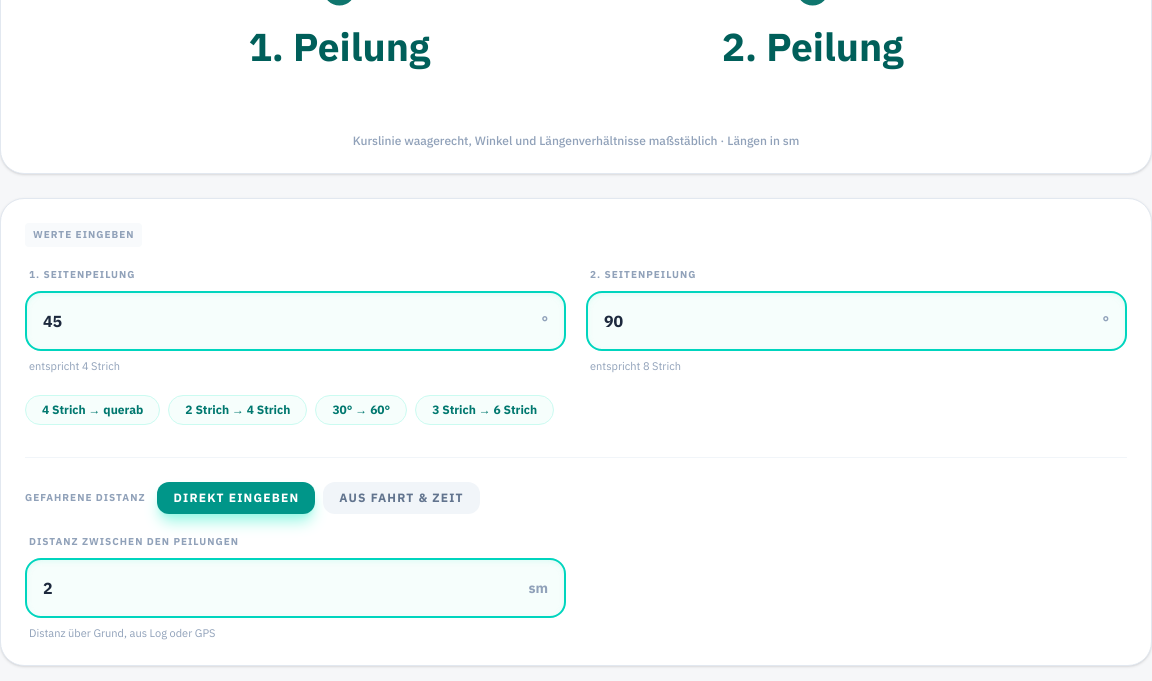
VersegelungRechner › kleine Peilungsdifferenz erzeugt eine Warnung neben dem Ergebnis
This screenshot has width=1152, height=681.
(page scrolled)
Step 1. Replace the text in the number field labelled "2. Seitenpeilung" with "50" → (856, 322), box [588,294,1125,350]
(page scrolled)
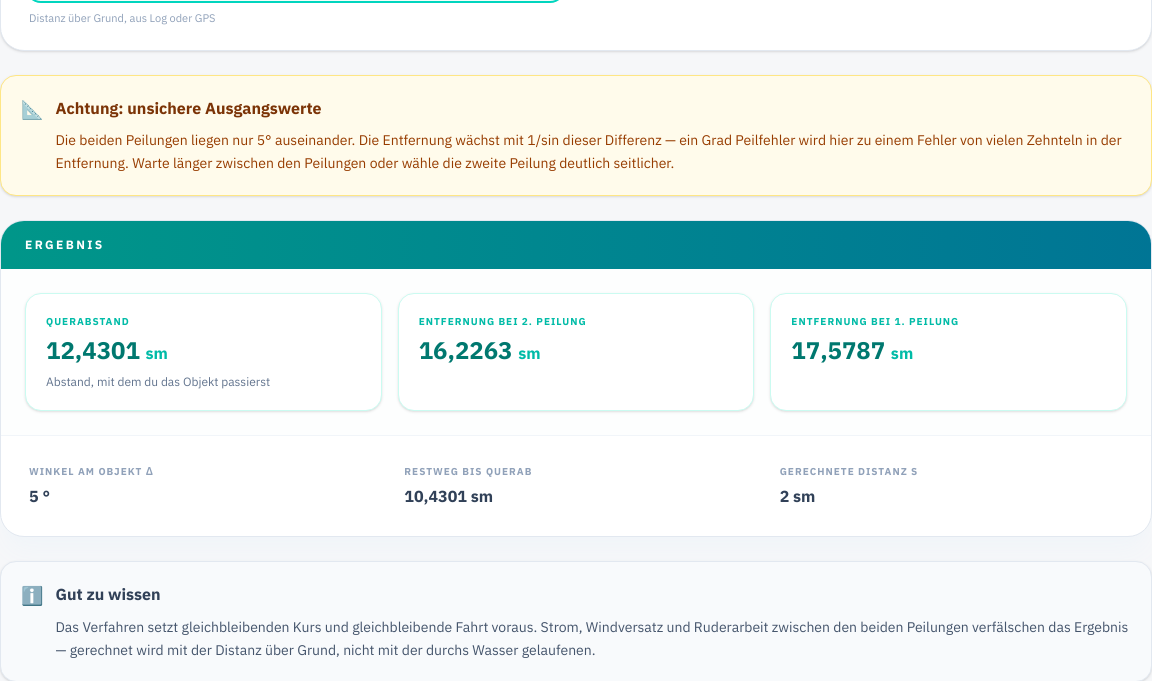
Expected: the text "Querabstand" is shown, [46,315,130,328]
Now the text "Achtung: unsichere Ausgangswerte" is shown, box [56,98,322,118]
